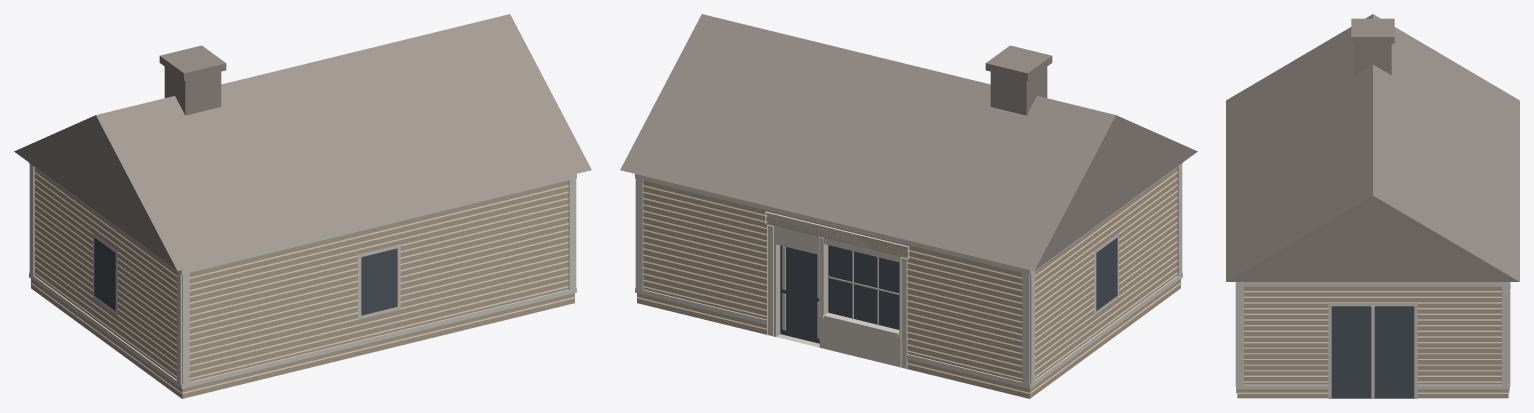
The model's file is goss_cobb_saddlery__shop_1833.glb.
3 views of the same model, side by side, from view 1: azimuth 30°, elevation 25°; view 2: azimuth 150°, elevation 25°; view 3: azimuth 270°, elevation 25° (orthographic). The views are drawn at different scales.
Parts seen in each view (by area): view 1: goss_cobb_saddlery__shop_1833; view 2: goss_cobb_saddlery__shop_1833; view 3: goss_cobb_saddlery__shop_1833.
Part boxes in pixels (<box>): goss_cobb_saddlery__shop_1833: <box>14,14,591,398</box>; goss_cobb_saddlery__shop_1833: <box>620,14,1197,398</box>; goss_cobb_saddlery__shop_1833: <box>1226,14,1519,398</box>.
Bounding box in the file's own units: 9.64 × 5.85 × 6.6.
